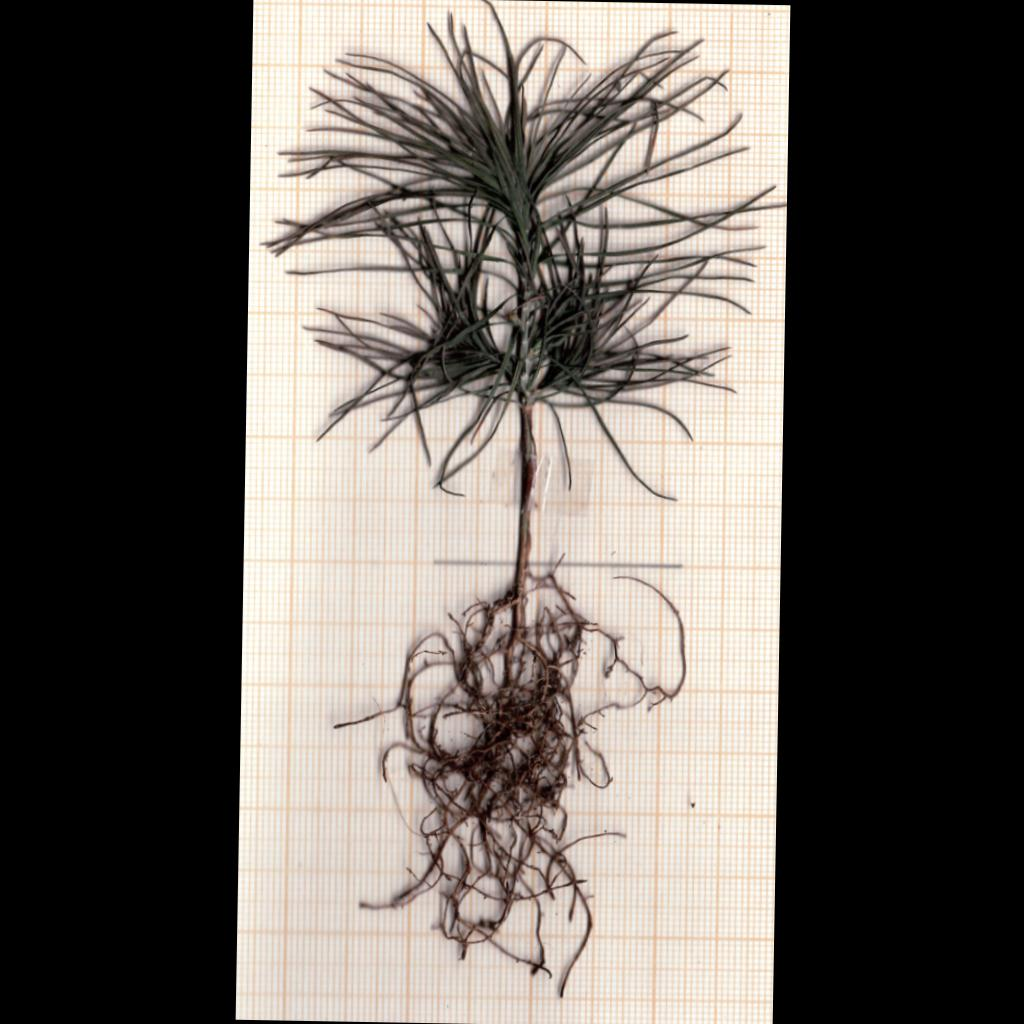flowerCedr: (270, 0, 771, 496)
rootCedr: (336, 573, 687, 997)
stemCedr: (515, 403, 538, 598)
